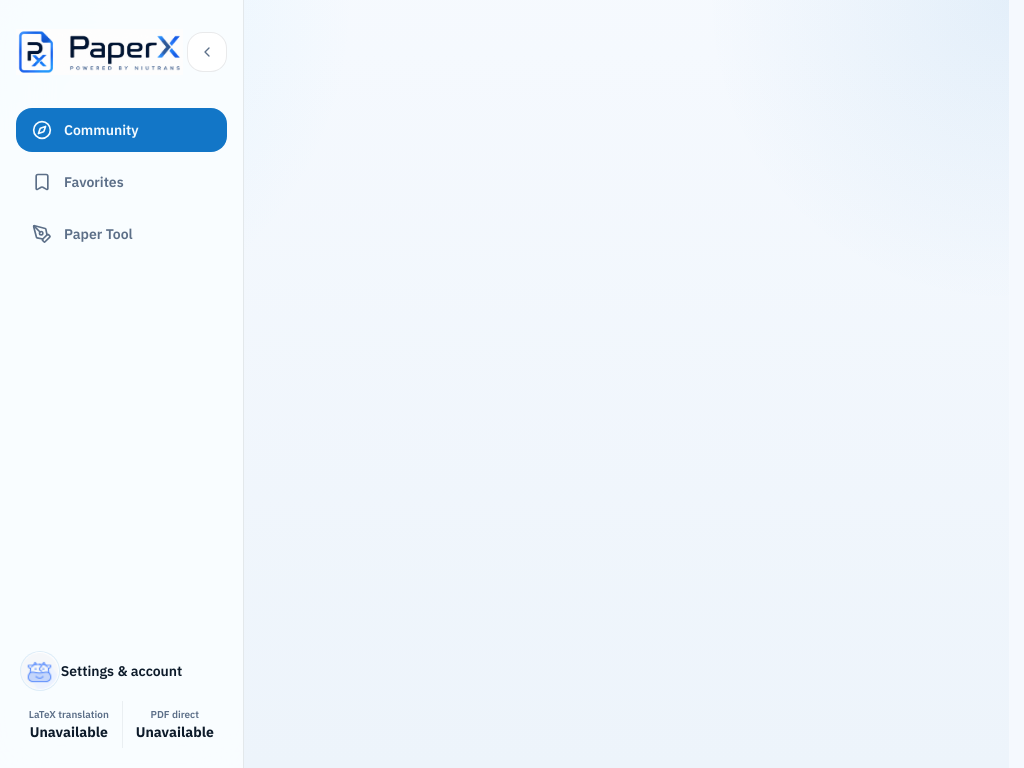
Test: AppSidebar community shell › does not expose the internal external user id in the account menu when login contact is unavailable
Click the button with aria-label "13800138000" at (122, 671), box [16,647,227,695]
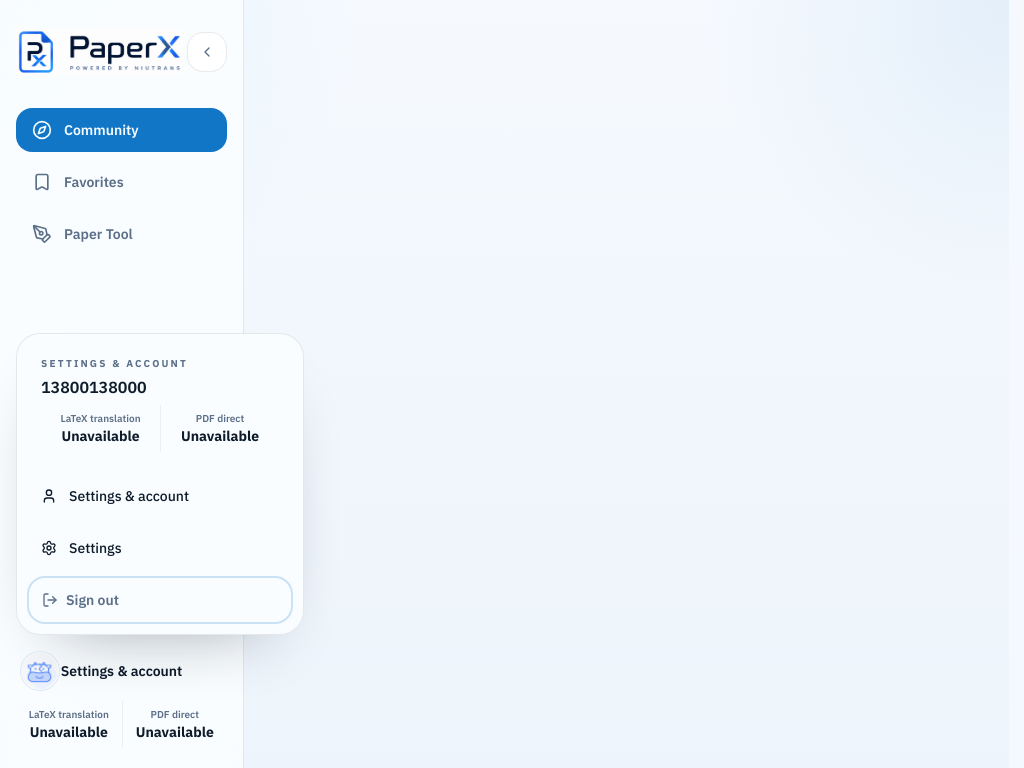
Result: the text "13800138000" is shown at [41,377,147,397]
